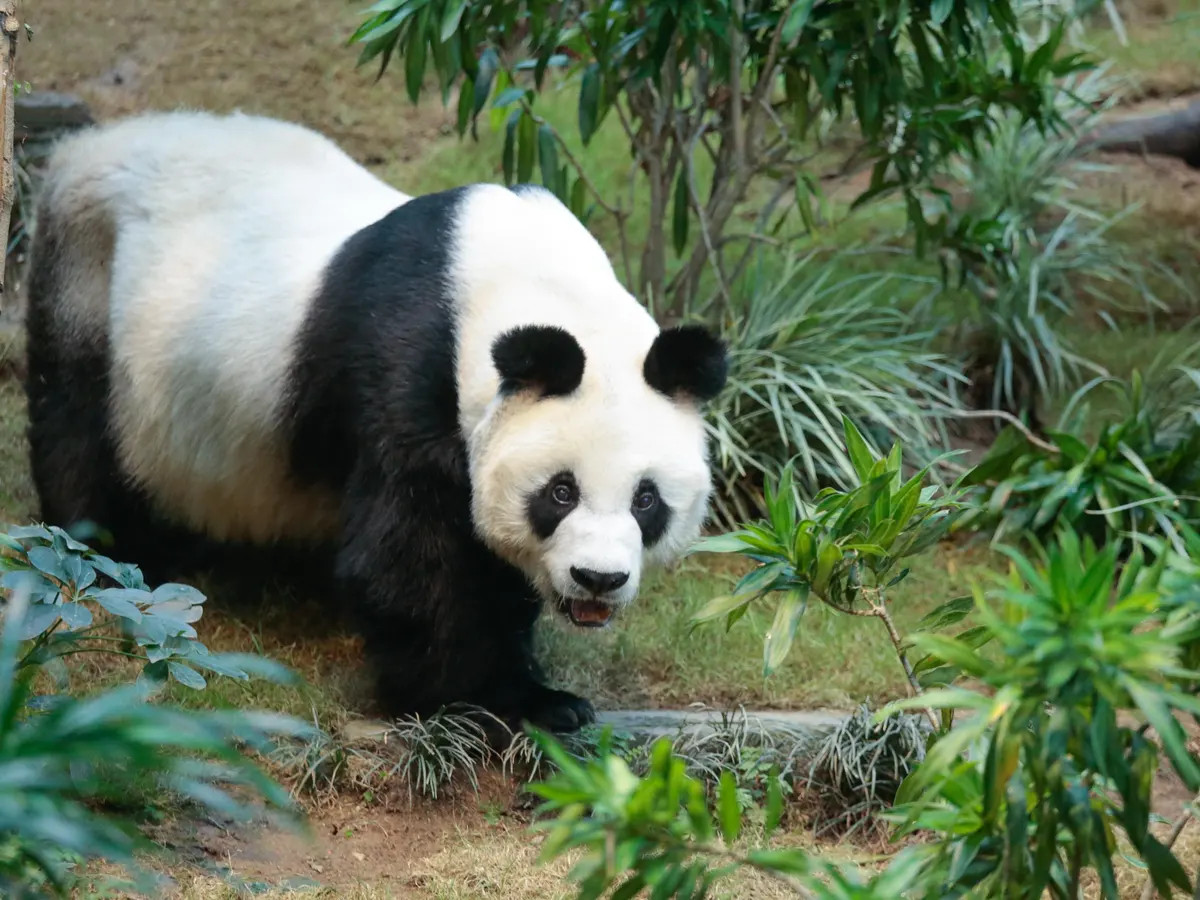Giant panda: (467, 318, 729, 636)
